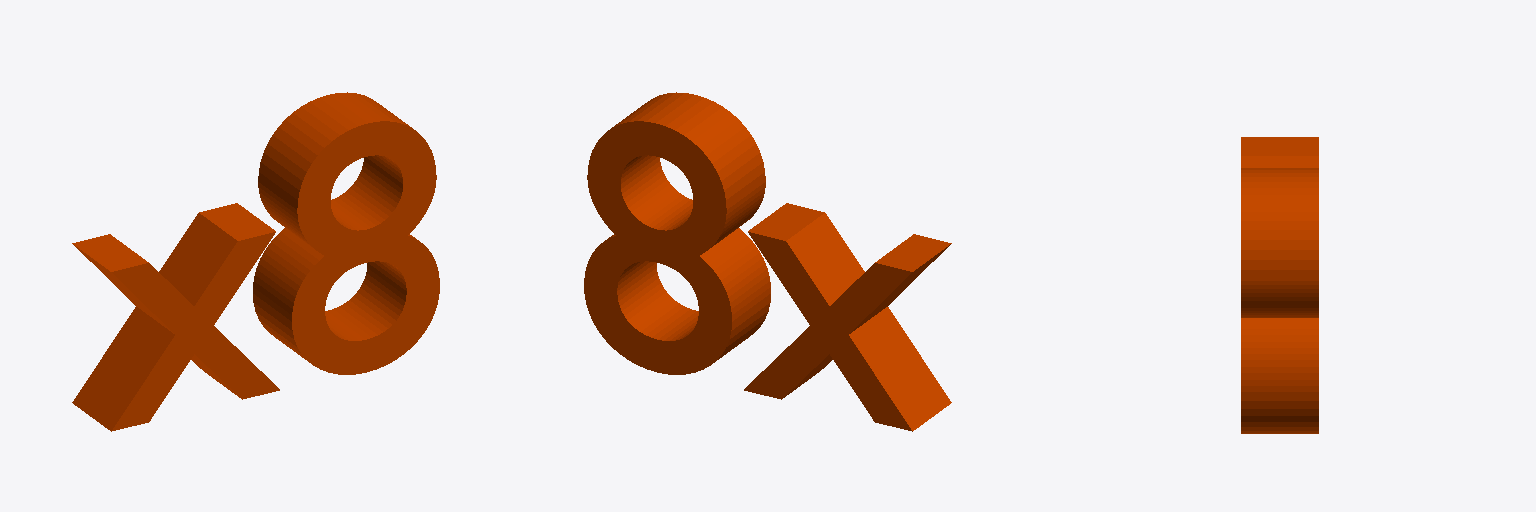
The picture shows the model from 3 angles: view 1: azimuth 30°, elevation 25°; view 2: azimuth 150°, elevation 25°; view 3: azimuth 270°, elevation 25°; orthographic projection.
Parts seen in each view (by area): view 1: Text_CUText; view 2: Text_CUText; view 3: Text_CUText.
Boxes of the visible parts, x1,y1,x2,y2 form: Text_CUText: [72, 92, 439, 431]; Text_CUText: [584, 92, 951, 431]; Text_CUText: [1241, 137, 1318, 433].
Bounding box in the file's own units: 0.968 × 0.7 × 0.2.